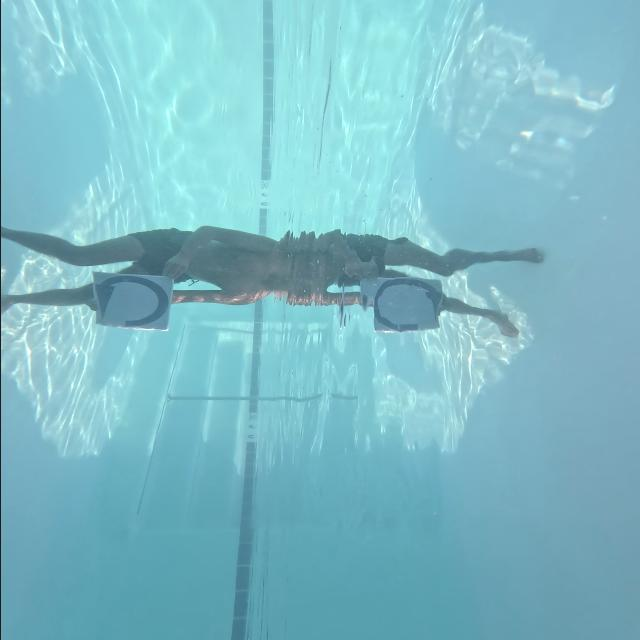blue_side: (86, 274, 172, 329)
